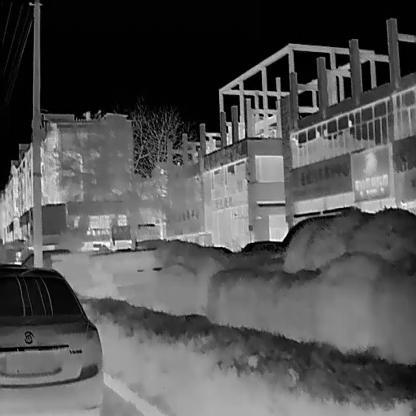car: (0, 266, 103, 414)
